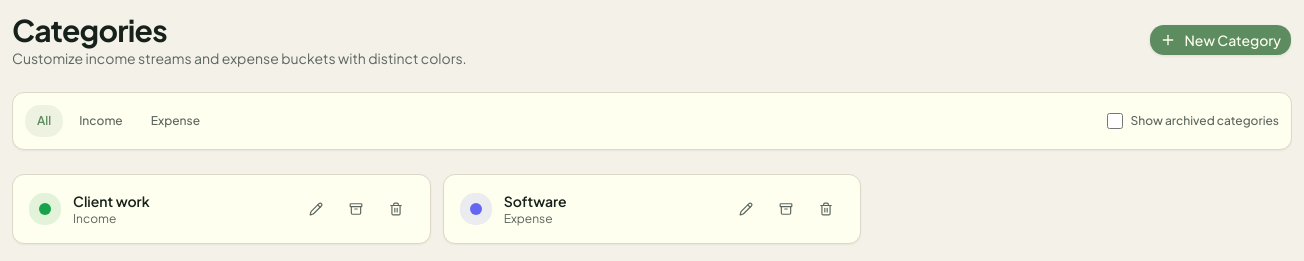
Scenario: CategoriesManager Component › renders active categories by default and supports type tab filtering
Check: the text "Client work" is shown, box [73,191,150,211]
Check: the text "Software" is shown, box [504,191,567,211]
// Click "Income" tab
Click the button "Income": (101, 121) [67,105,135,137]
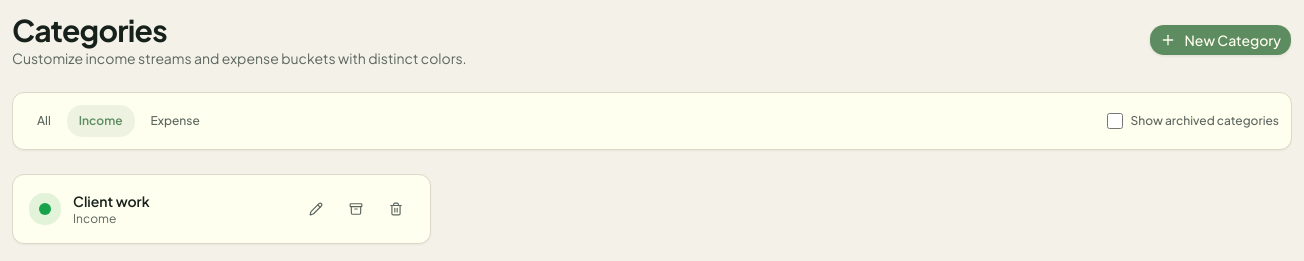
Check: the text "Client work" is shown, box [73,191,150,211]
Check: the text "Software" is gone
// Click "Expense" tab
Click the button "Expense": (175, 121) [139,105,212,137]
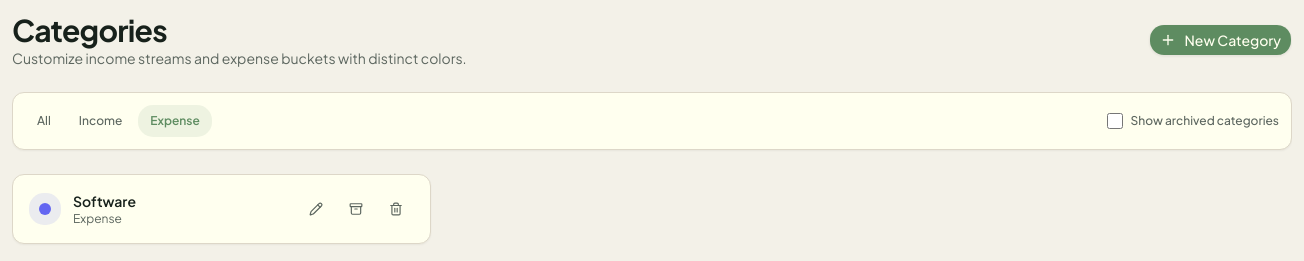
Check: the text "Client work" is gone
Check: the text "Software" is shown, box [73,191,136,211]
